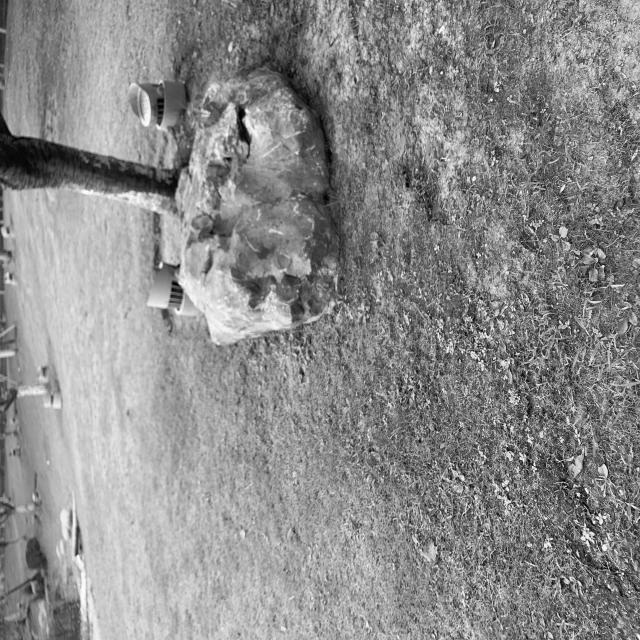Stone: (176, 66, 338, 344)
